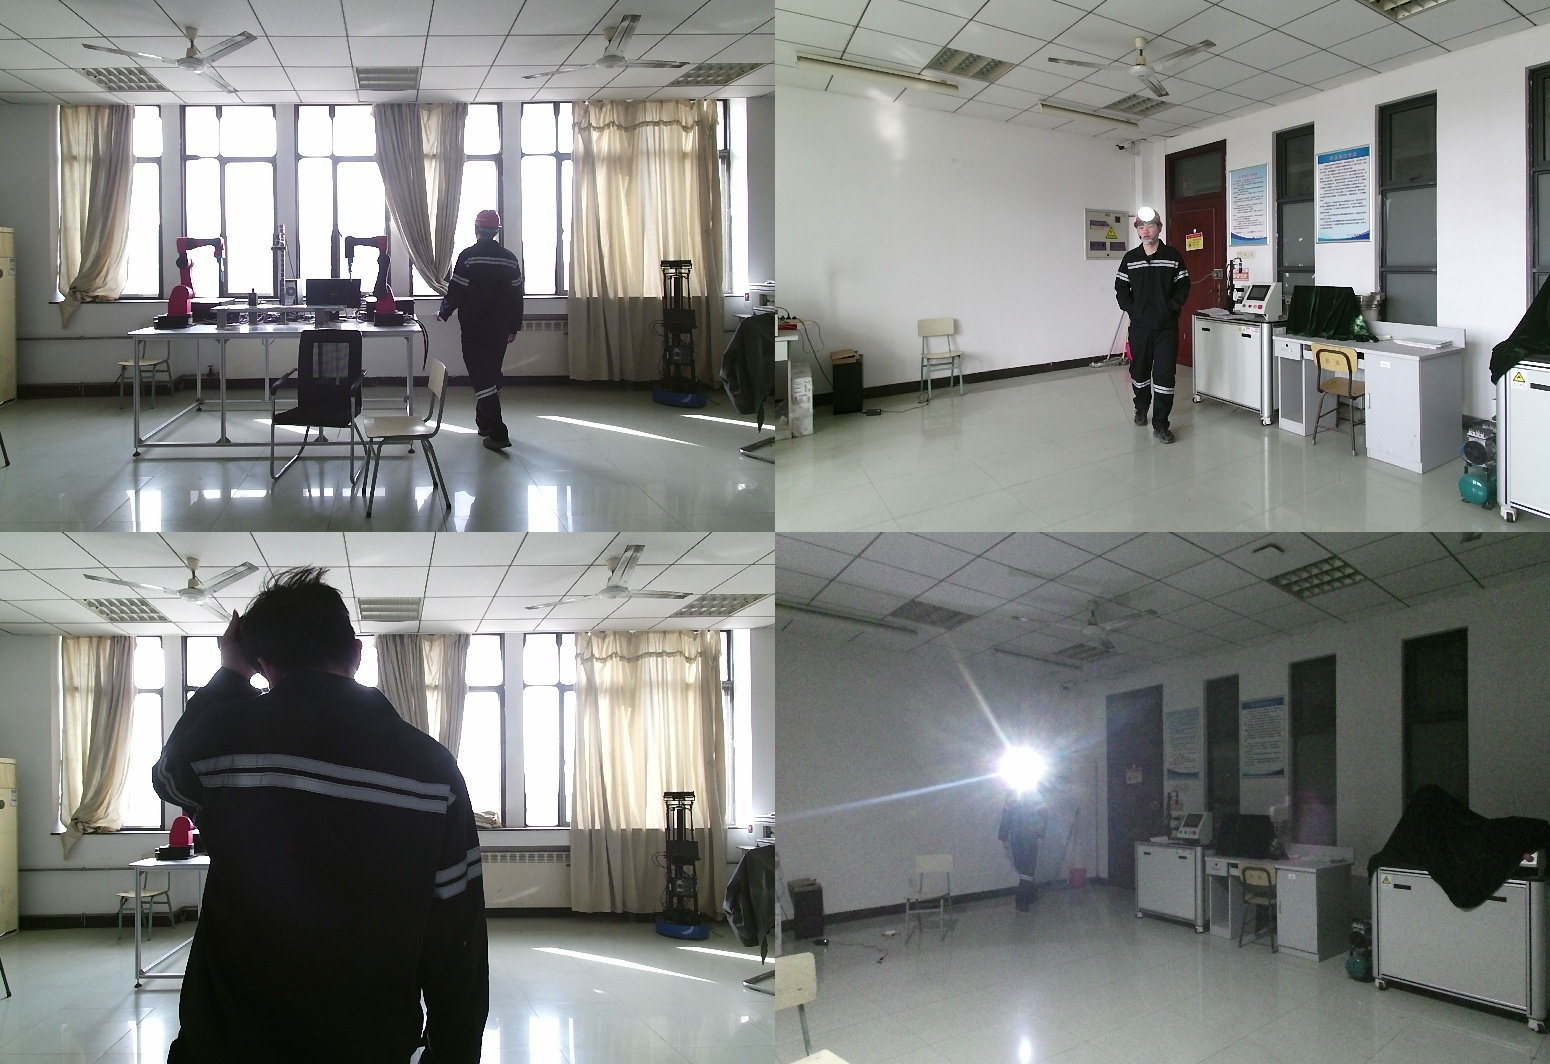person: (153, 576, 491, 1064), (439, 207, 529, 455), (1114, 213, 1197, 442), (999, 765, 1053, 914)
